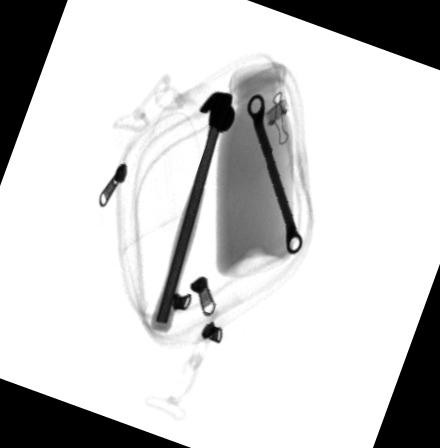Hammer: (150, 90, 236, 332)
Wrench: (246, 94, 302, 254)
